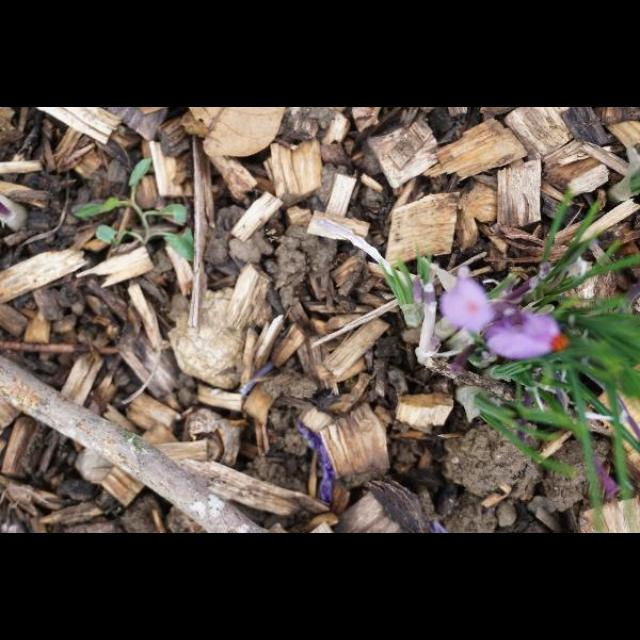flower: (484, 314, 568, 360), (440, 280, 496, 332)
